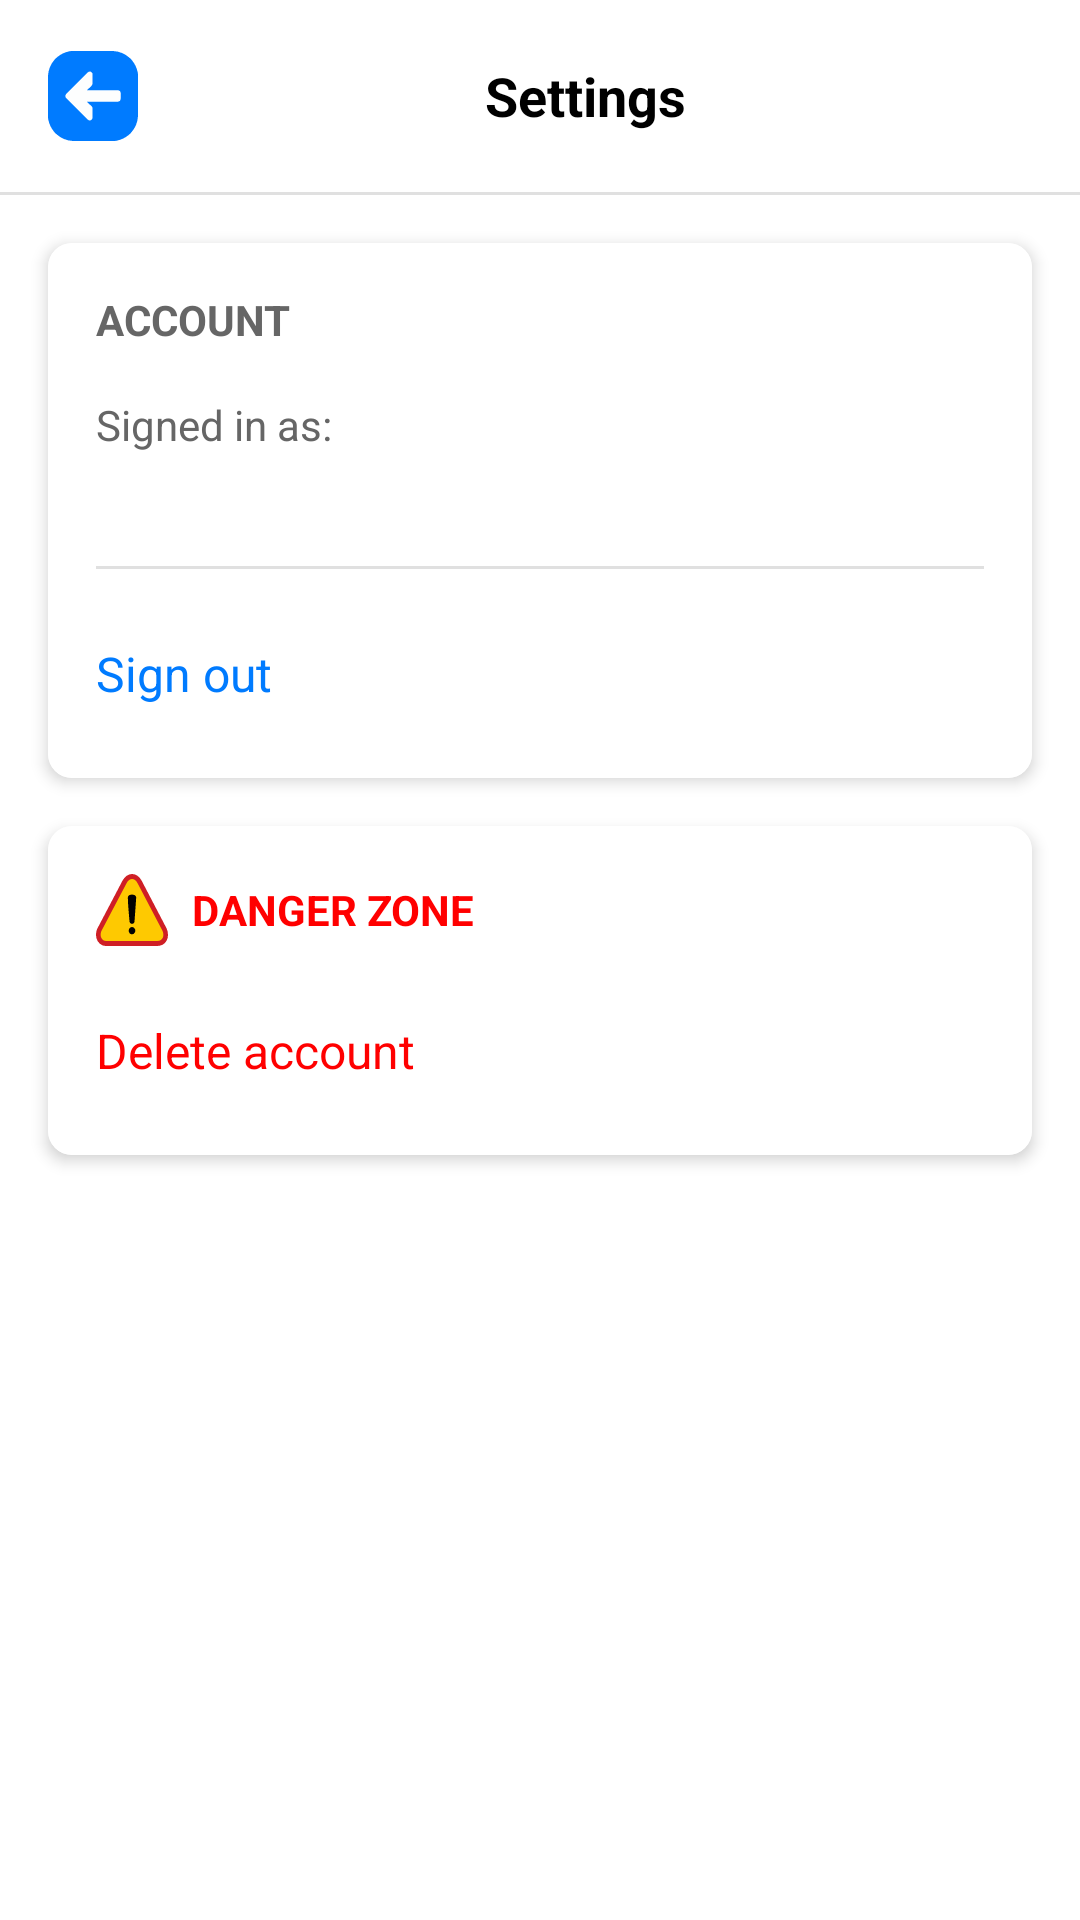

Named icons in this screenshot (1080w x 1920h) and their centers, (x=x, y=y):
Back: (x=93, y=96)
